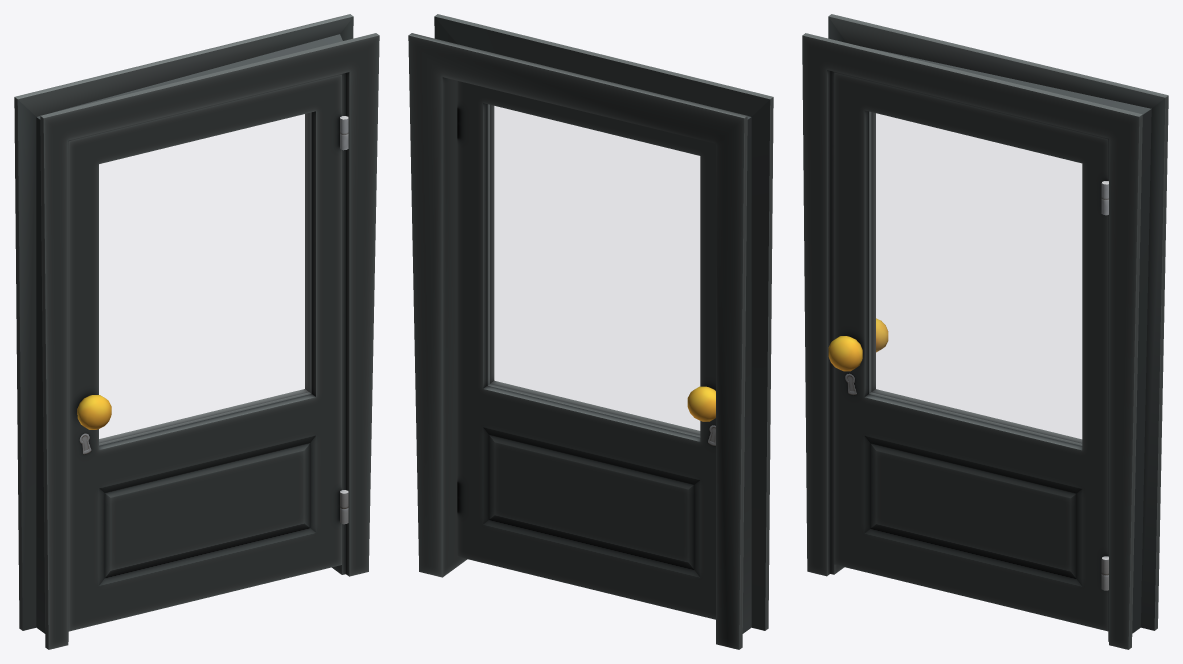
Rendered from PropDoor02TypeA.FBX.
The picture shows the model from 3 angles, left to right: view 1: azimuth 30°, elevation 25°; view 2: azimuth 150°, elevation 25°; view 3: azimuth 330°, elevation 25°; orthographic projection.
Parts seen in each view (by area): view 1: Door, Frame, Glass; view 2: Frame, Door, Glass; view 3: Door, Frame, Glass.
Part boxes in pixels (bbox=[...]): Door: bbox=[68, 74, 348, 631]; Frame: bbox=[14, 14, 379, 649]; Glass: bbox=[99, 113, 308, 442]; Frame: bbox=[408, 14, 773, 649]; Door: bbox=[457, 81, 715, 619]; Glass: bbox=[490, 105, 699, 434]; Door: bbox=[828, 72, 1108, 631]; Frame: bbox=[802, 14, 1168, 649]; Glass: bbox=[871, 112, 1081, 443].
Size of what is drawn, in the model's own units: 1.72 by 2.61 by 0.3577.
